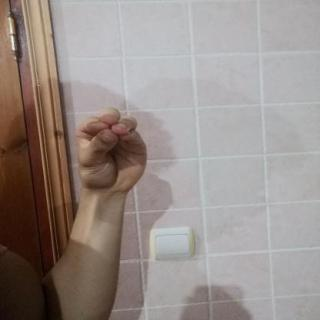HA: (62, 98, 158, 201)
